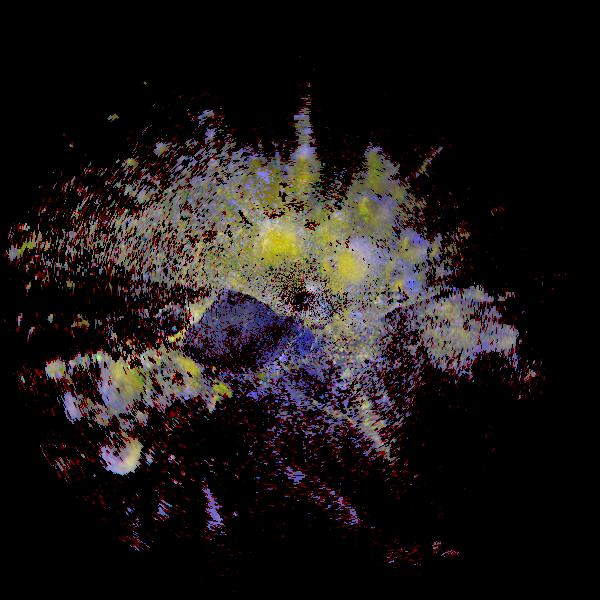roost: (99, 430, 144, 475), (99, 365, 141, 407), (260, 220, 302, 262), (162, 357, 201, 396), (331, 245, 370, 284)
